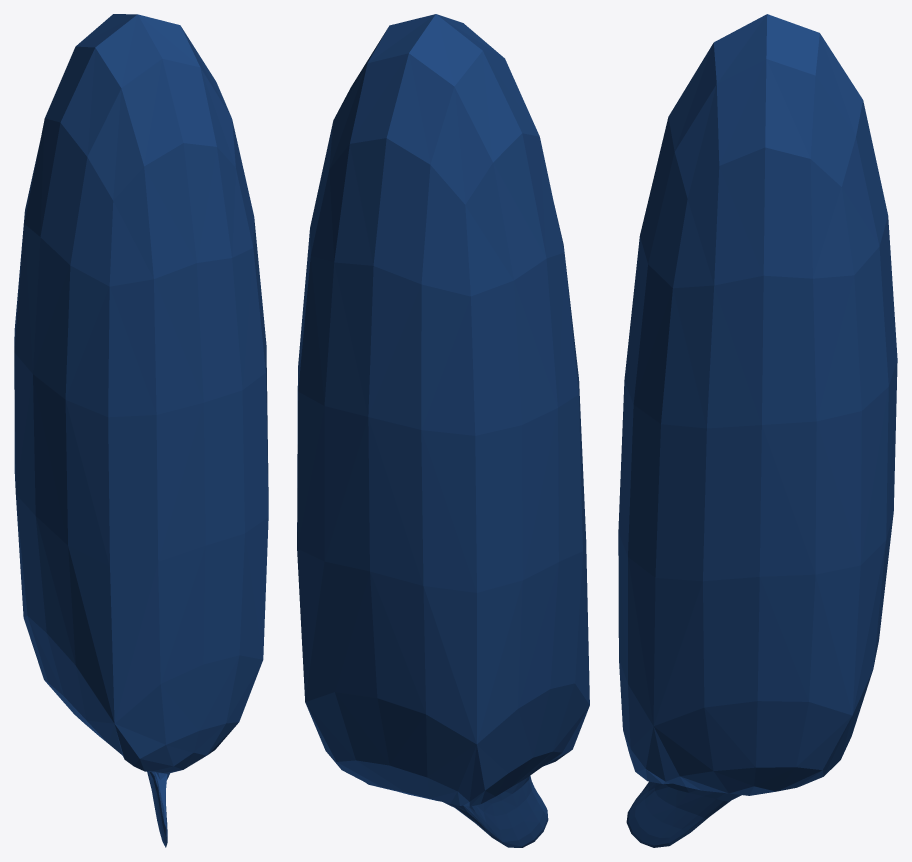
The picture shows the model from 3 angles, left to right: view 1: azimuth 30°, elevation 25°; view 2: azimuth 150°, elevation 25°; view 3: azimuth 270°, elevation 25°; orthographic projection. The views are drawn at different scales.
Parts seen in each view (by area): view 1: 575_Cube.2316; view 2: 575_Cube.2316; view 3: 575_Cube.2316.
Boxes of the visible parts, x1,y1,x2,y2 form: 575_Cube.2316: [14, 14, 268, 847]; 575_Cube.2316: [297, 14, 589, 847]; 575_Cube.2316: [618, 14, 897, 847].
Bounding box in the file's own units: 3.67 × 12.75 × 3.81.
